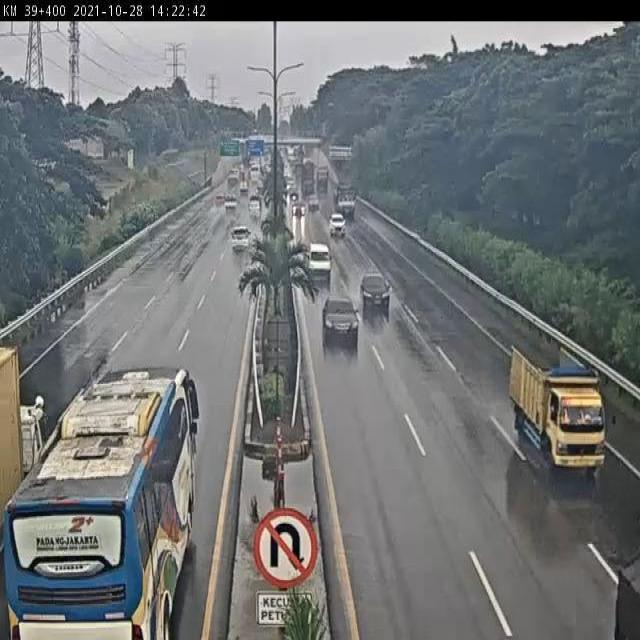bus-l-: (4, 365, 201, 640)
truck-s-: (513, 343, 610, 469)
